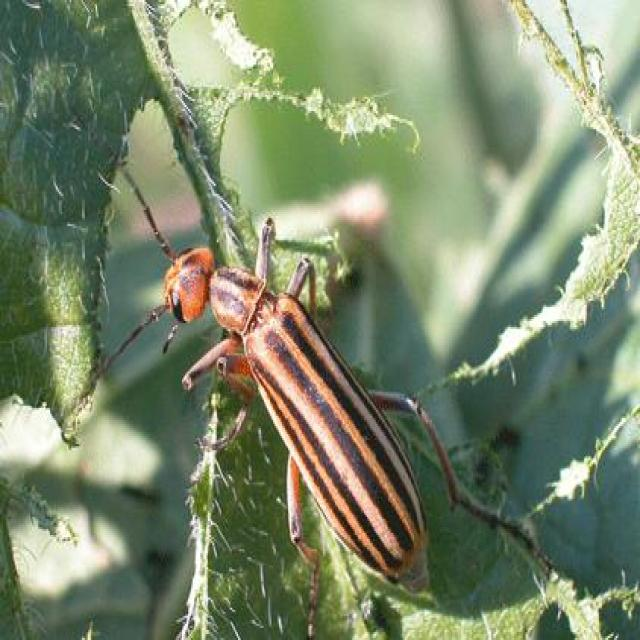BlisterBeetle-Adult-: (124, 201, 472, 598)
